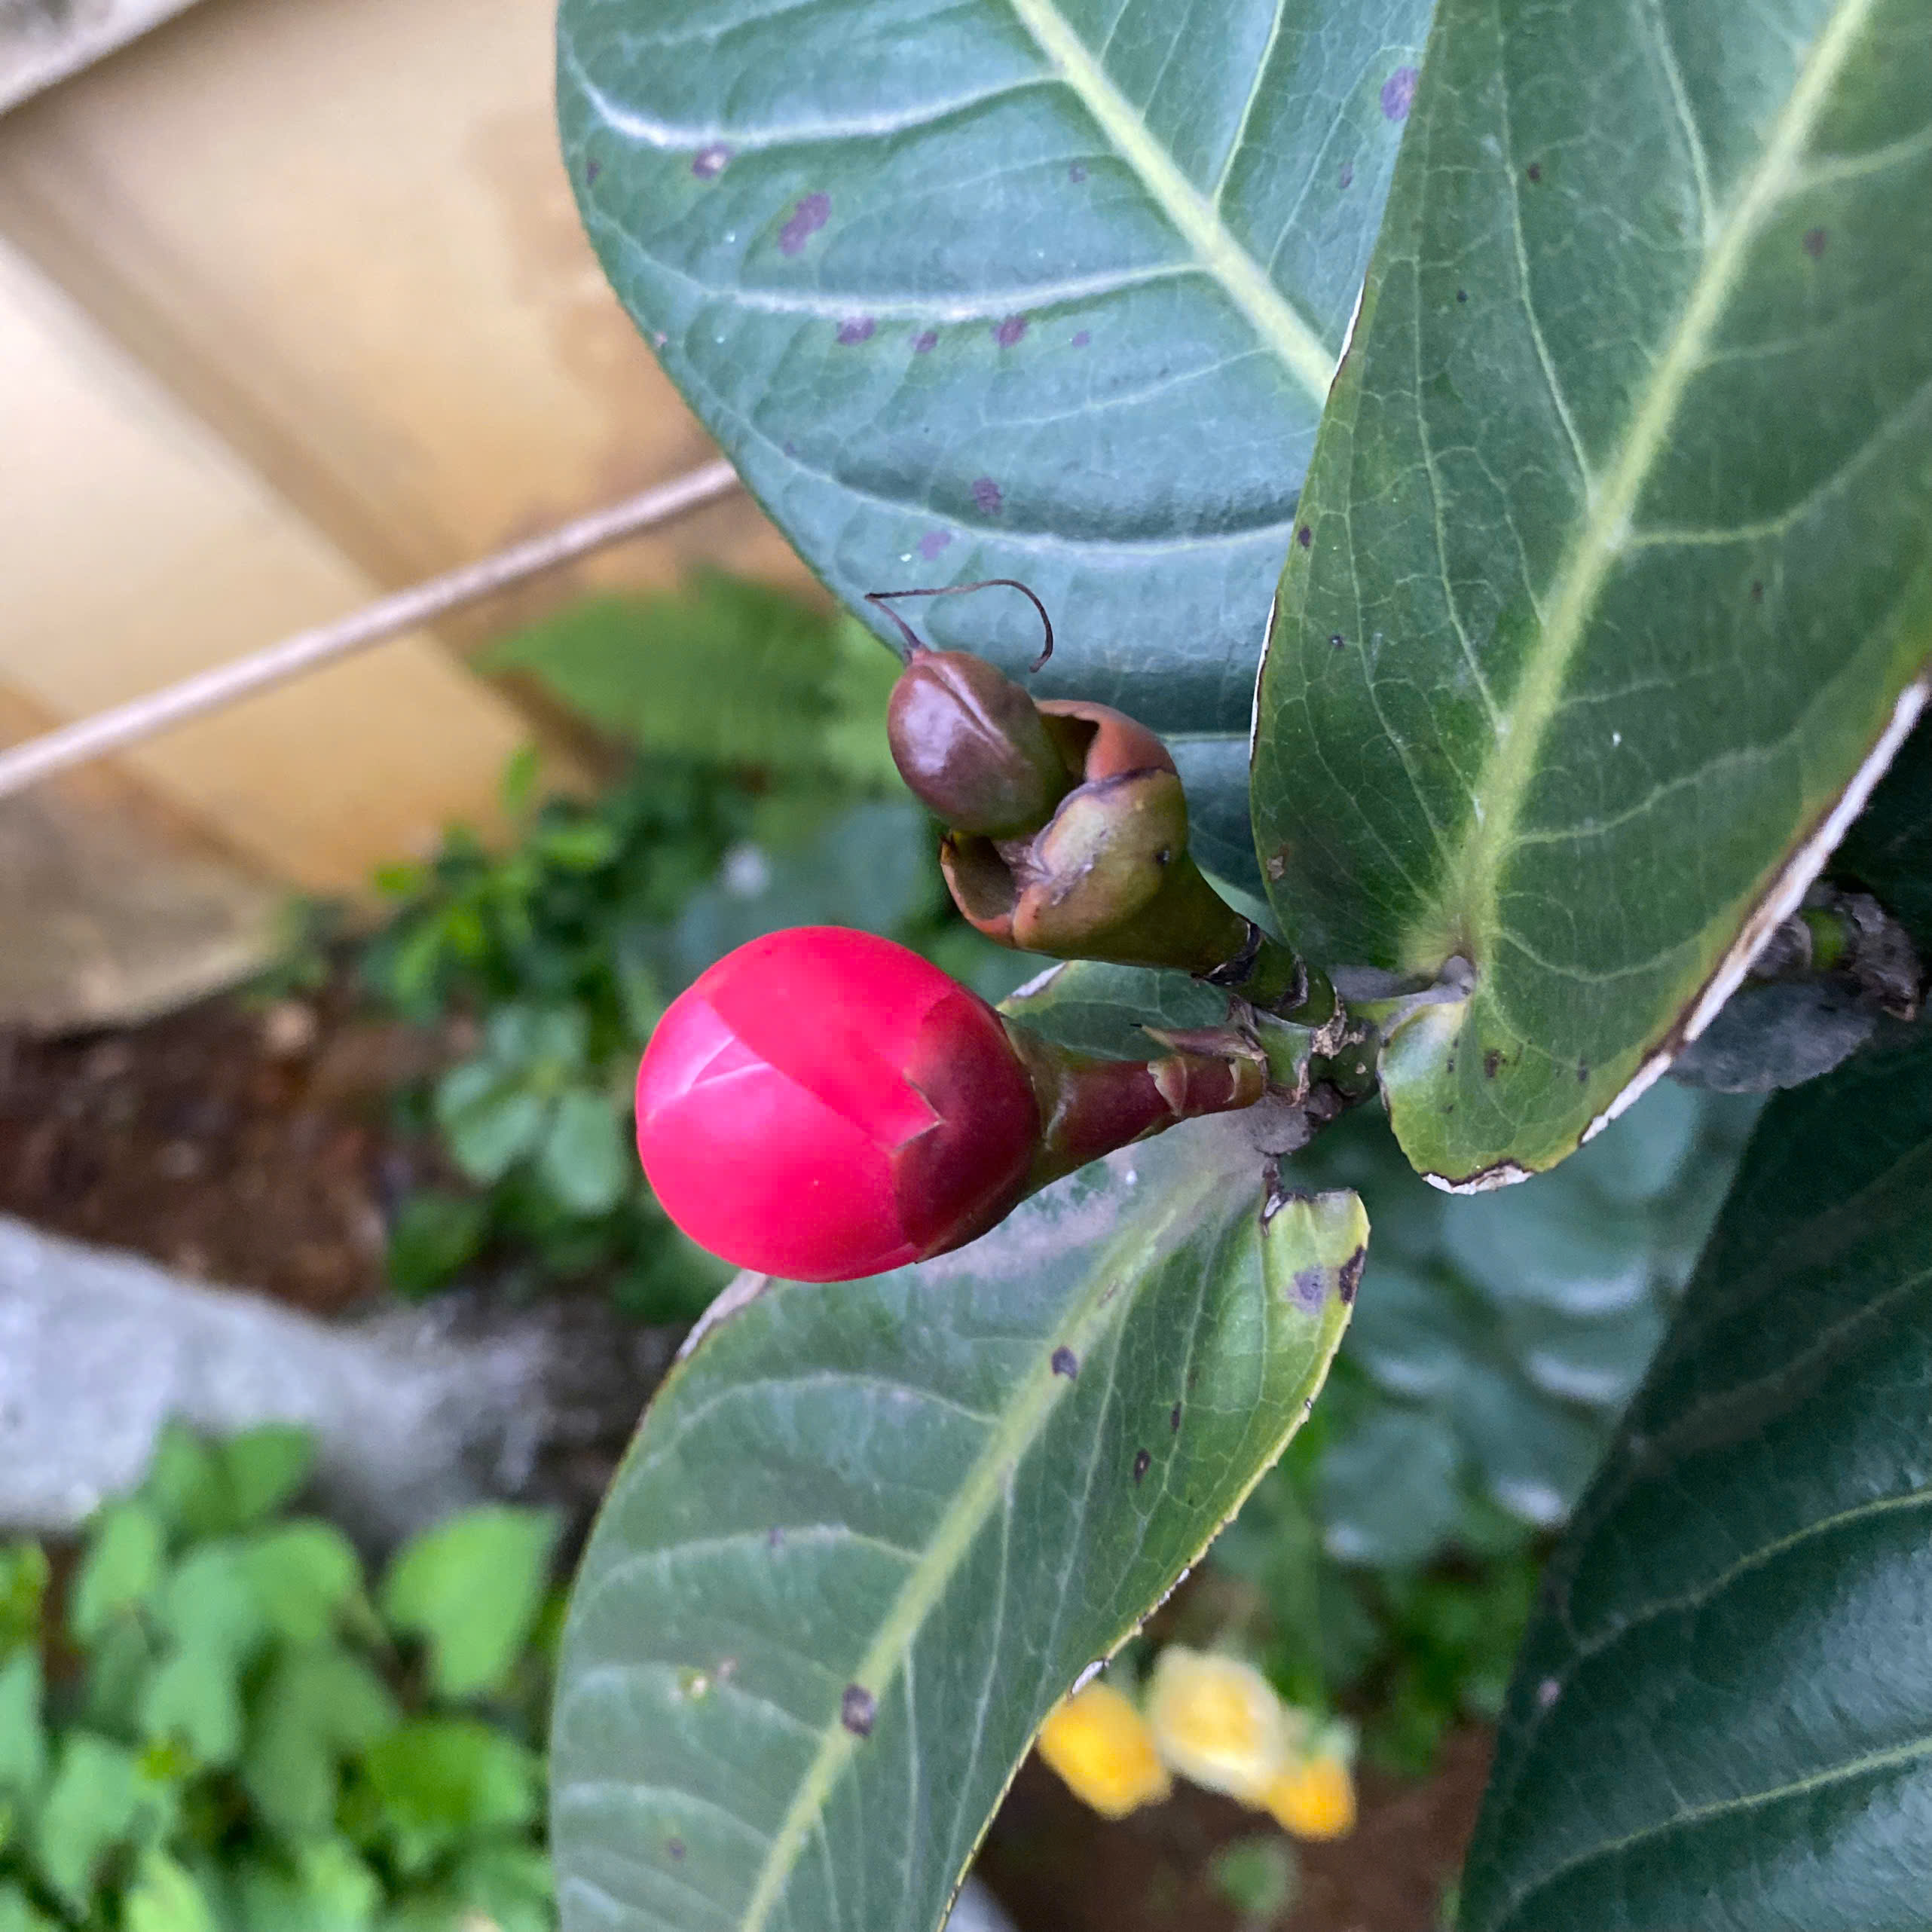hoa_hai_duong: (428, 517, 1932, 1845)
